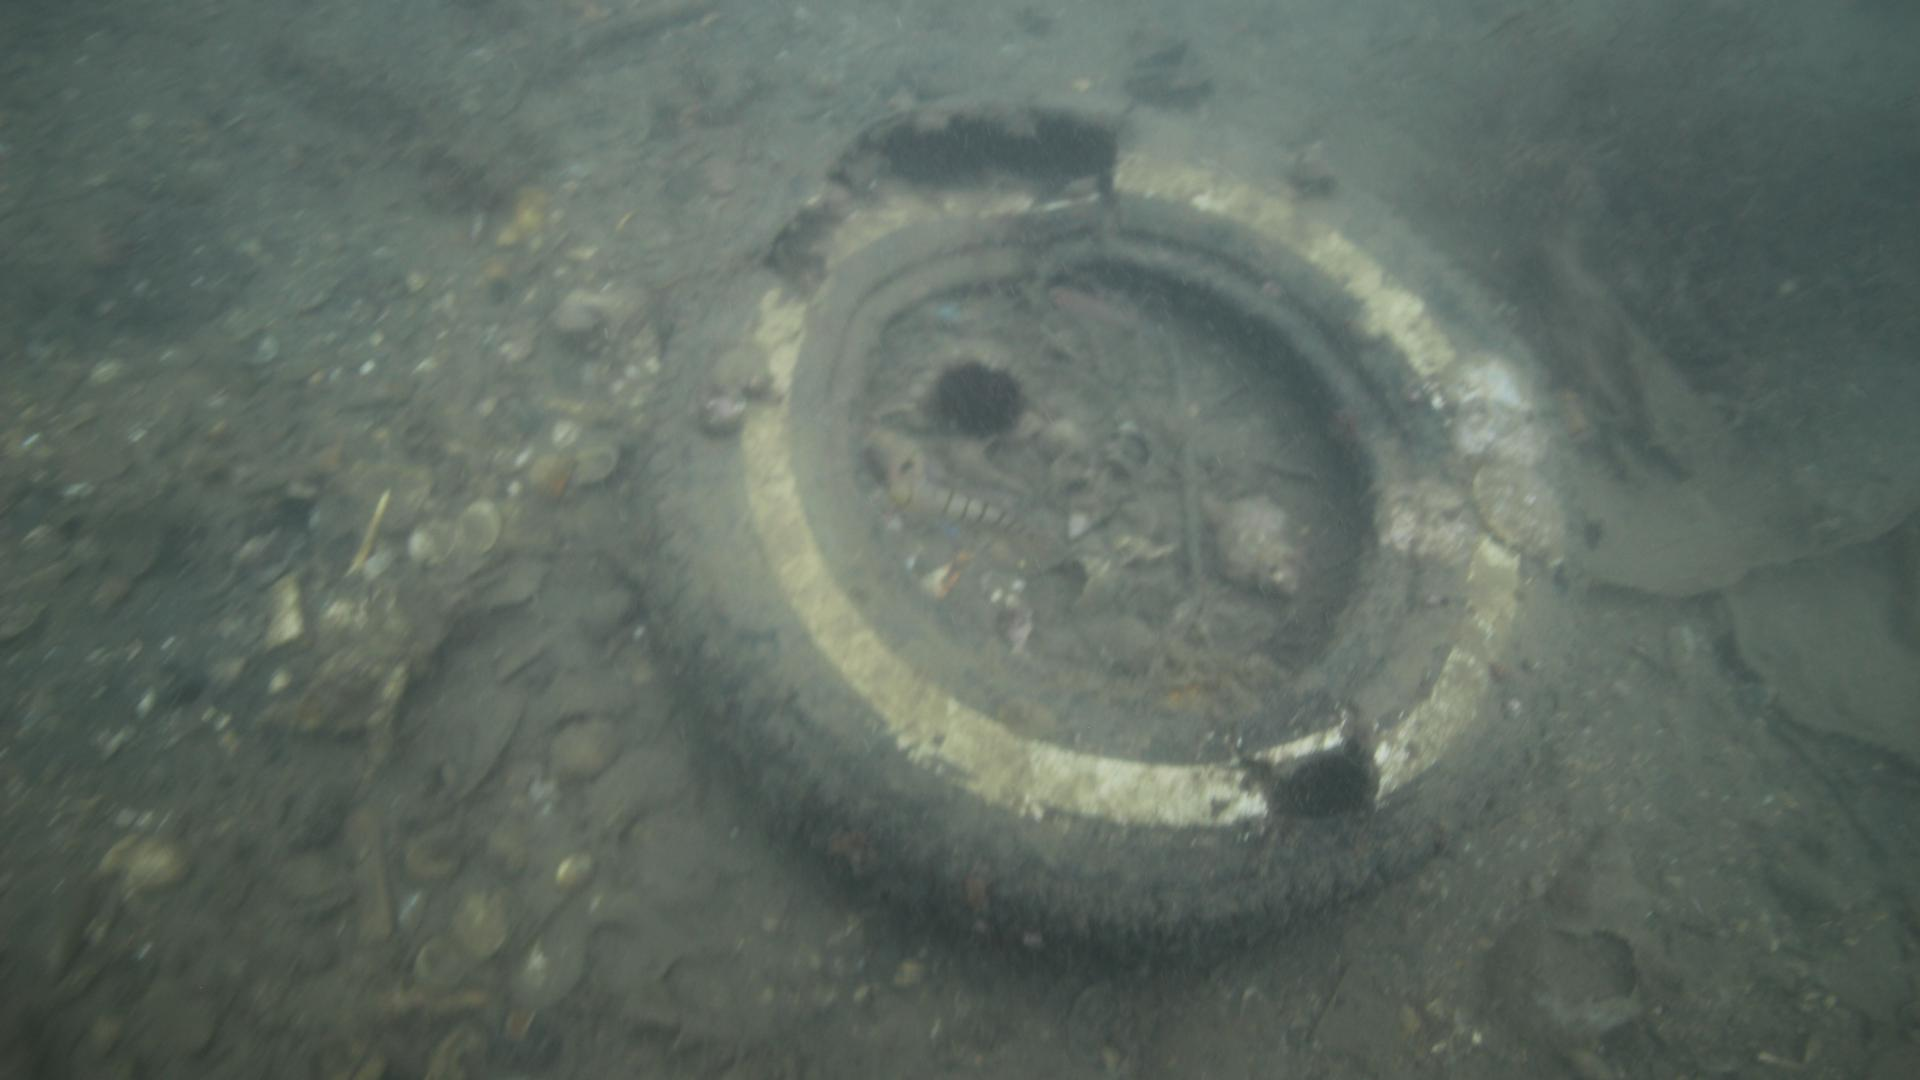tire: (628, 84, 1580, 975)
